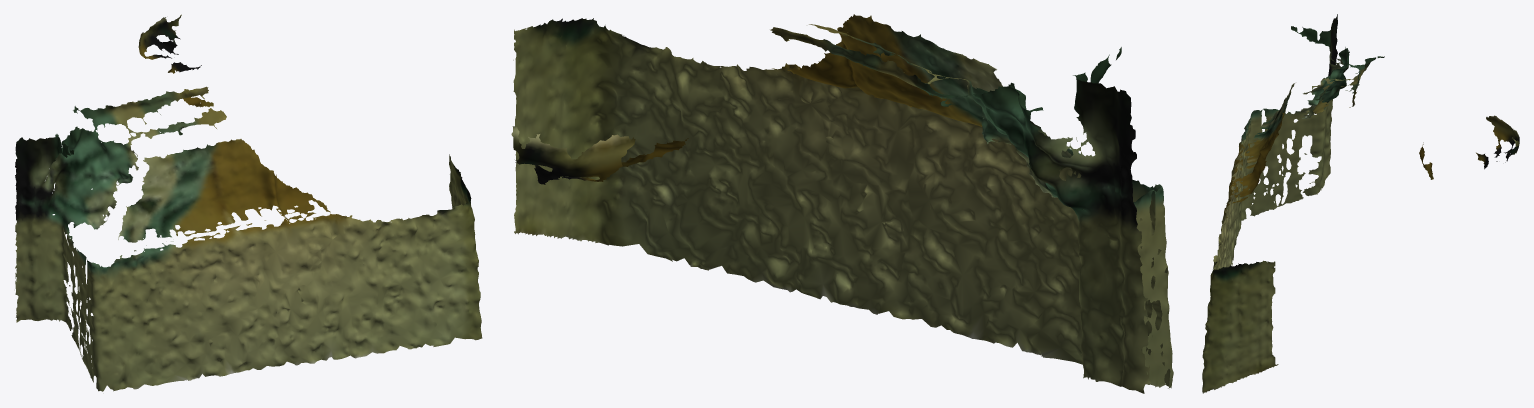
The model's file is color_model_f005_20260209_014328.obj.
3 renders of one model, left to right at view 1: azimuth 30°, elevation 25°; view 2: azimuth 150°, elevation 25°; view 3: azimuth 270°, elevation 25°, orthographic. The views are drawn at different scales.
Bounding box in the file's own units: 1.98 × 1.12 × 1.51.
